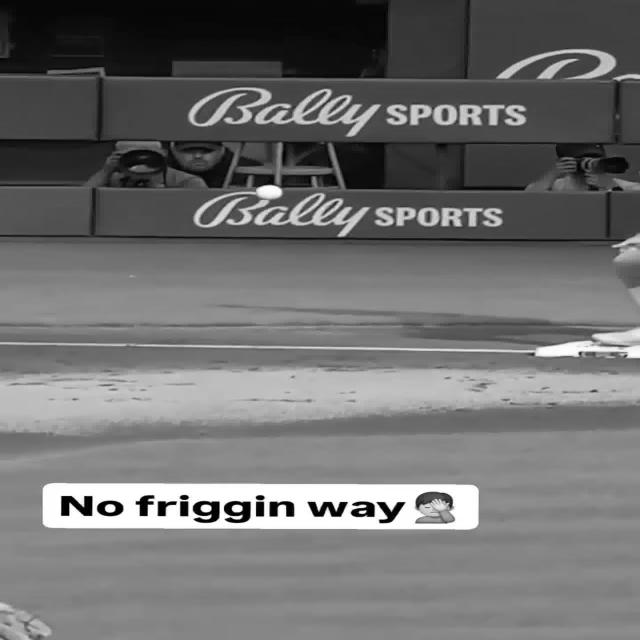base: (536, 340, 640, 359)
baseball: (256, 185, 282, 200)
baseball_glove: (0, 602, 51, 640)
shoe: (591, 328, 640, 346)
